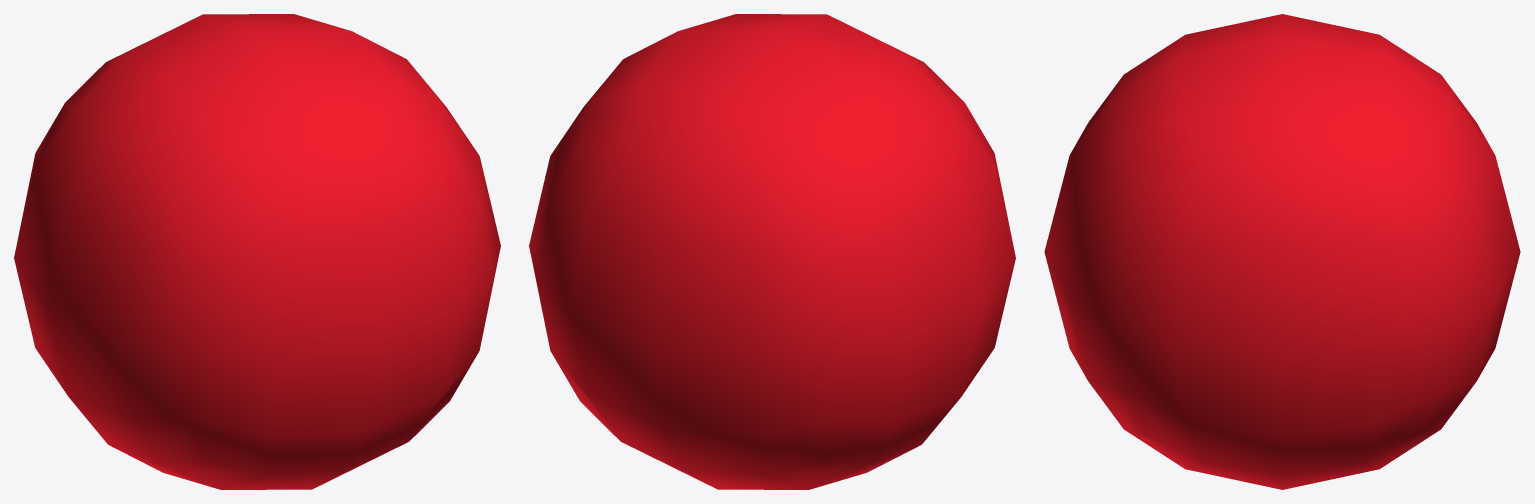
File: ClownNose.fbx
3 views of the same model, side by side, from view 1: azimuth 30°, elevation 25°; view 2: azimuth 150°, elevation 25°; view 3: azimuth 270°, elevation 25° (orthographic). The views are drawn at different scales.
Visible parts, largest first — view 1: ClownNose; view 2: ClownNose; view 3: ClownNose.
Part boxes in pixels (box(x1,y1,x2,y2)): ClownNose: box(14, 14, 500, 489); ClownNose: box(529, 14, 1015, 489); ClownNose: box(1044, 14, 1520, 489).
Bounding box in the file's own units: 0.0744 × 0.0744 × 0.0744.
